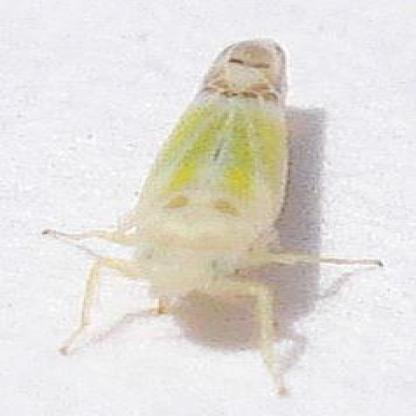green-leafhopper: (65, 37, 340, 383)
